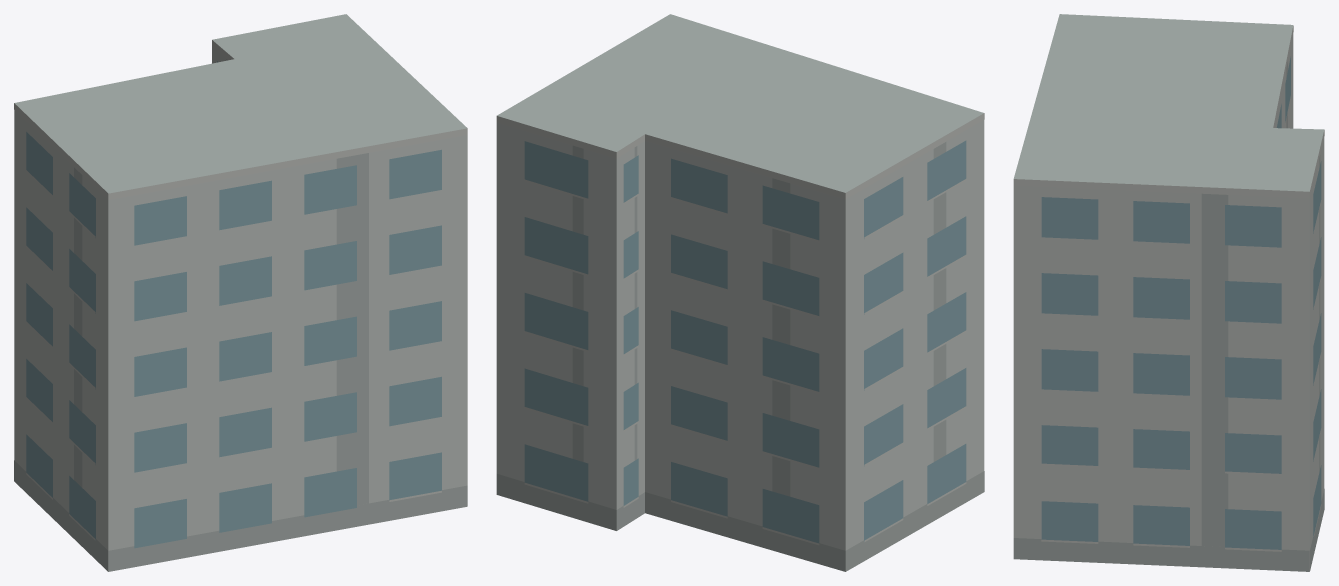
The model's file is survey-upis-32572905.glb.
3 views of the same model, side by side, from view 1: azimuth 30°, elevation 25°; view 2: azimuth 150°, elevation 25°; view 3: azimuth 270°, elevation 25° (orthographic).
Visible parts, largest first — view 1: survey-upis-32572905.tmp; view 2: survey-upis-32572905.tmp; view 3: survey-upis-32572905.tmp.
Part boxes in pixels (x1,y1,x2,y2): survey-upis-32572905.tmp: (14, 14, 467, 571); survey-upis-32572905.tmp: (496, 14, 984, 571); survey-upis-32572905.tmp: (1013, 14, 1324, 571).
Bounding box in the file's own units: 13.95 × 13.9 × 10.31.
